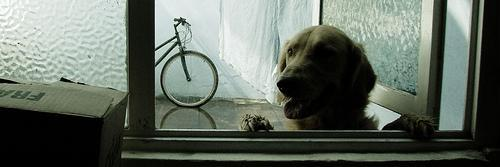bicycle: (155, 16, 219, 108)
